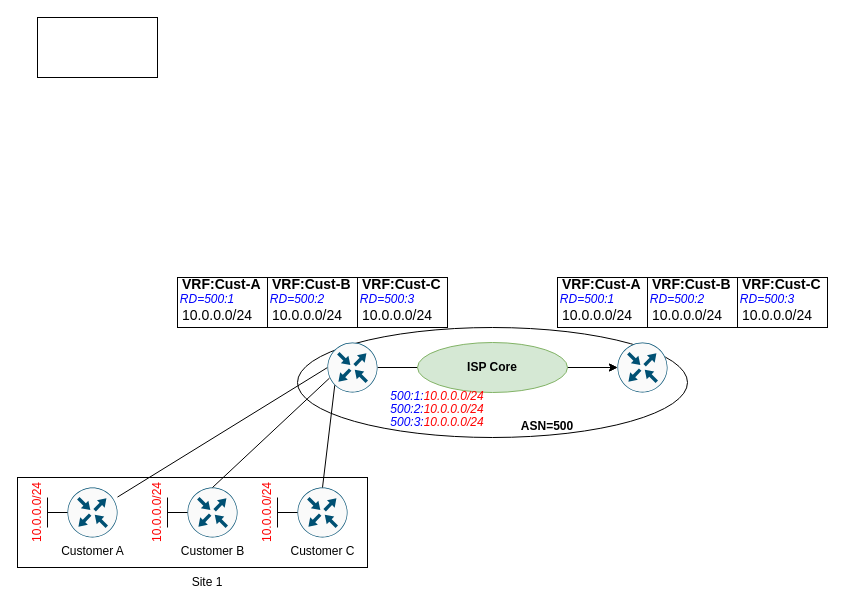
Some shapes in this 845 by 615 pixel diagram are drawn without their labels. The shapes that lost their labels are listed below. From the top down, each one's box as (x1, y1, x2, y2) in pixels, then its label:
(326, 342, 378, 392): PE1
(616, 342, 668, 392): PE2
